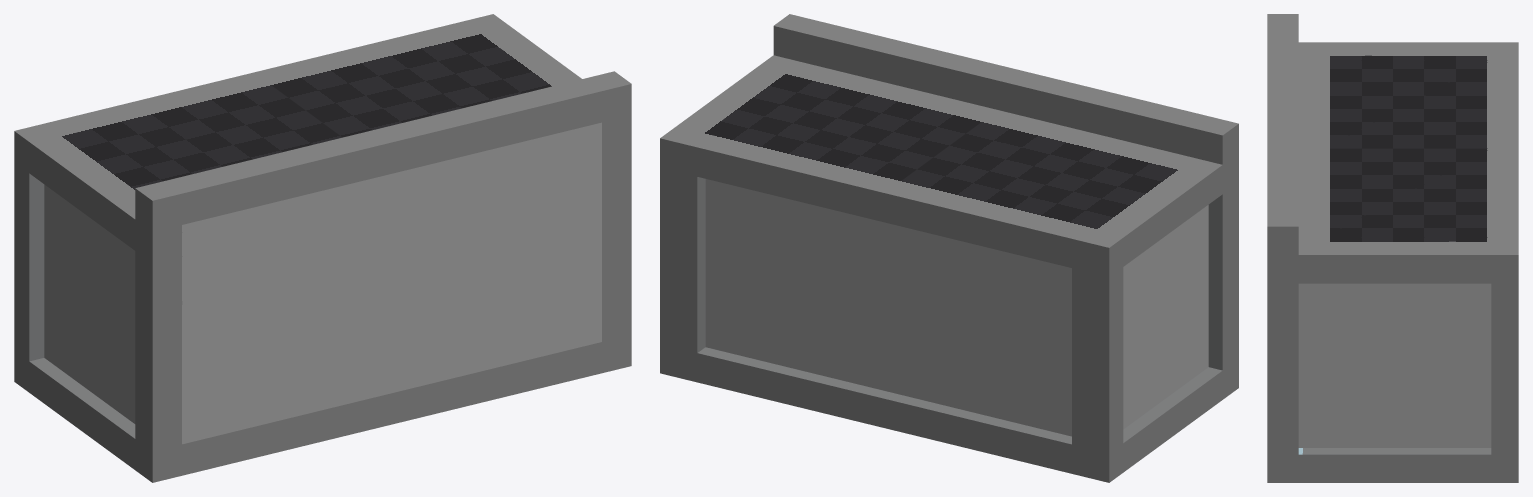
Rendered from stove_station.gltf.
3 renders of one model, left to right at view 1: azimuth 30°, elevation 25°; view 2: azimuth 150°, elevation 25°; view 3: azimuth 270°, elevation 25°, orthographic. The views are drawn at different scales.
Parts seen in each view (by area): view 1: cuboid; view 2: cuboid; view 3: cuboid.
Boxes of the visible parts, x1,y1,x2,y2 form: cuboid: (14,14,631,482); cuboid: (660,14,1238,482); cuboid: (1267,14,1518,482).
Size of the model in its own units: 1 by 0.5625 by 0.5.
Materials: 1 (1 with a texture image).
